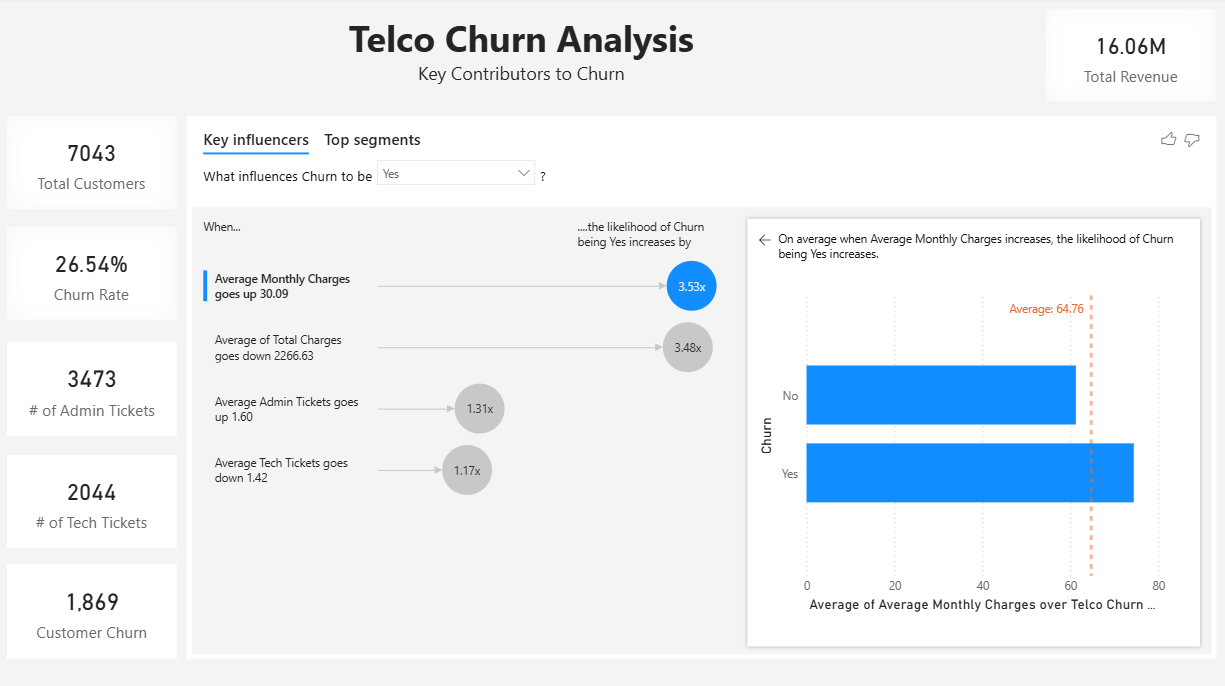

The dashboard page shown, as its layout file describes it:
{"tool":"powerbi","page":{"name":"Key Contributors to Churn","canvas":[1280,720],"ordinal":3},"visuals":[{"type":"keyDriversVisual","fields":{"ExplainBy":["Telco Churn Dataset.Average of Total Charges","Telco Churn Dataset.Average Monthly Charges","Telco Churn Dataset.Average Admin Tickets","Telco Churn Dataset.Average Tech Tickets"],"Target":["Telco Churn Dataset.Churn"]},"box":[78.2,44.8,1108,603.5],"z":0}]}

Visuals, with their boxes in screenshot pixels (x1, y1, x2, y2), scaled from the page's 1280x720 canvas onto the 1225x686 screenshot:
keyDriversVisual - Telco Churn Dataset.Average of Total Charges x Telco Churn Dataset.Average Monthly Charges: l=75, t=43, r=1135, b=618
